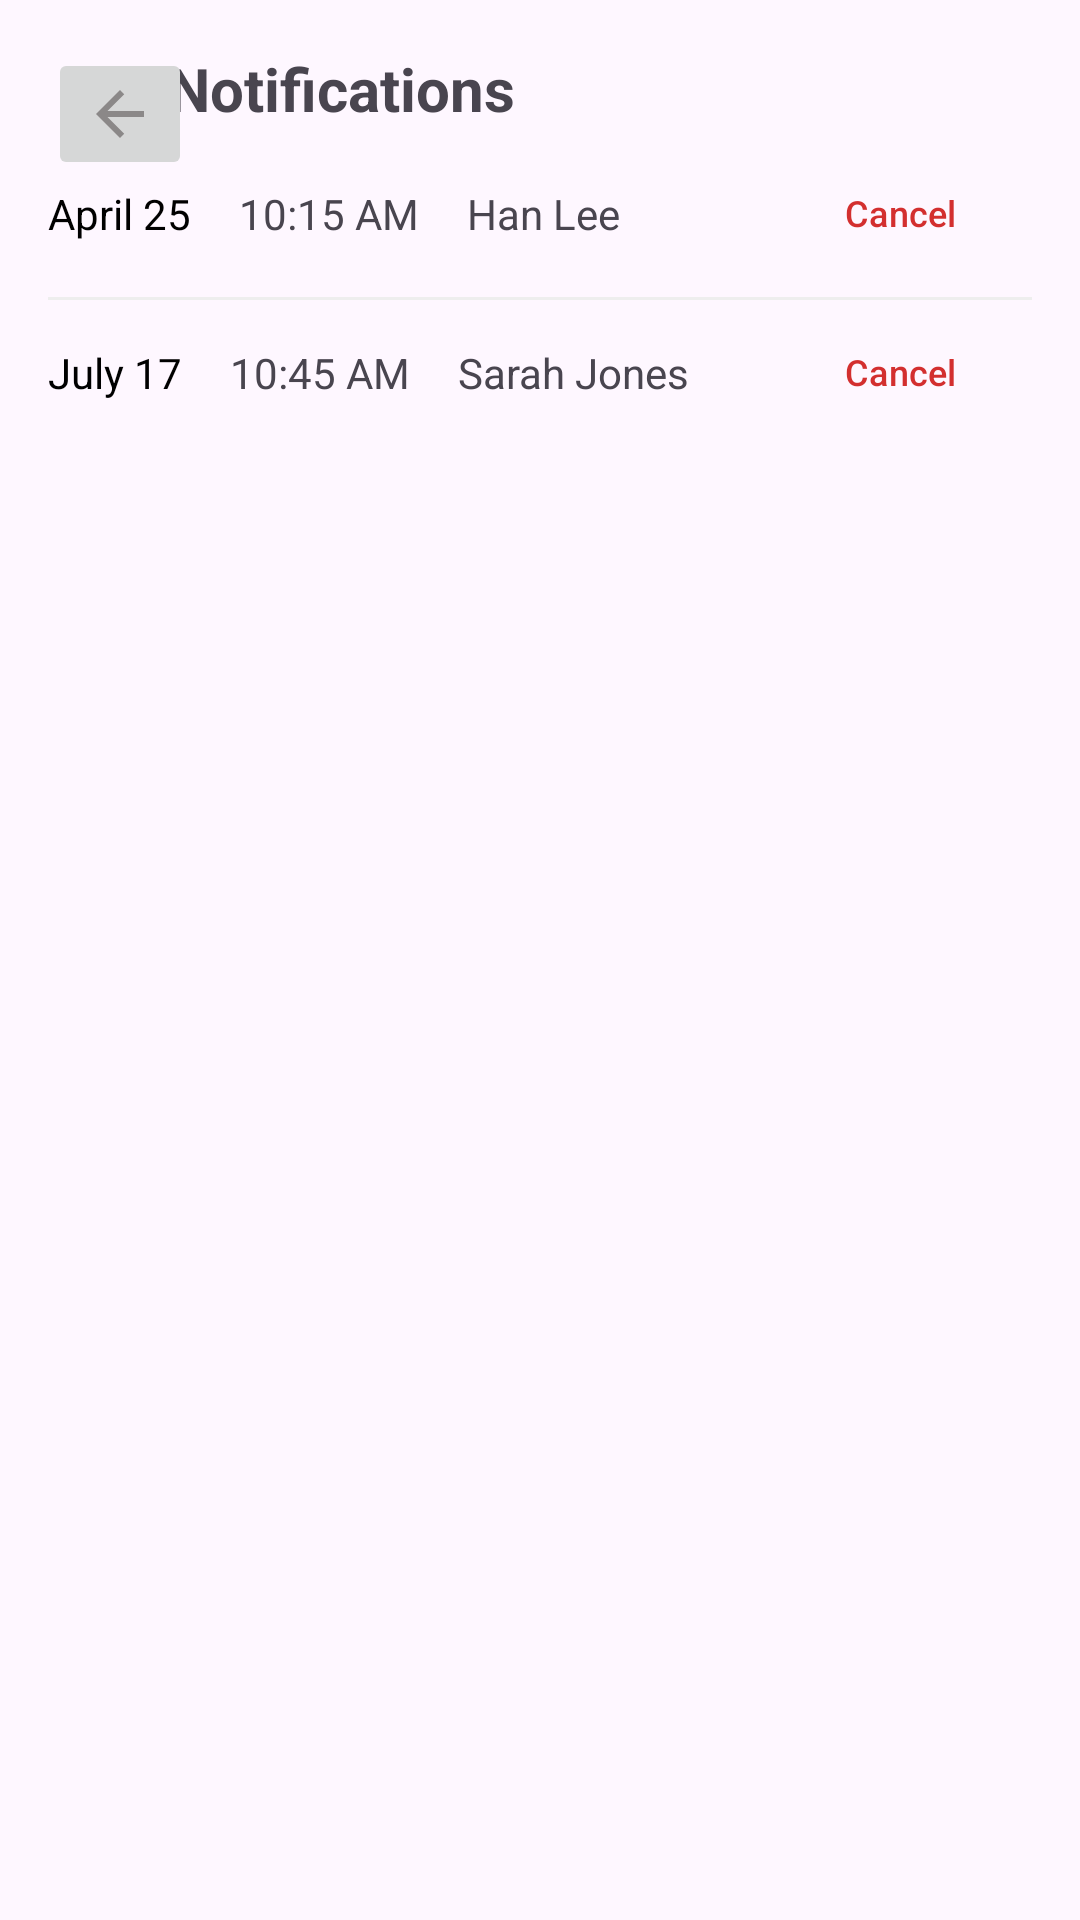

Named icons in this screenshot (1080*1920) and their bounding boxes, (x1, y1, x2, y2):
arrow back: (60, 66, 192, 162)
